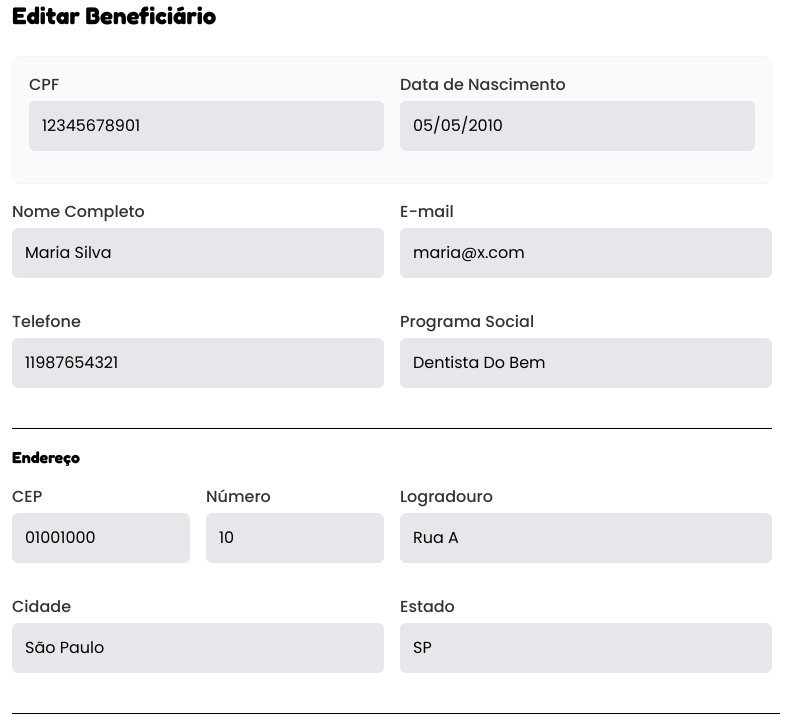
it: UpdateBeneficiario (editar beneficiário) › envia só e-mail, telefone (dígitos) e endereço (CEP em dígitos + número)
Step 1. Replace the text in the field labelled "E-mail" with "novo@x.com" → (586, 253), box [400,228,772,278]
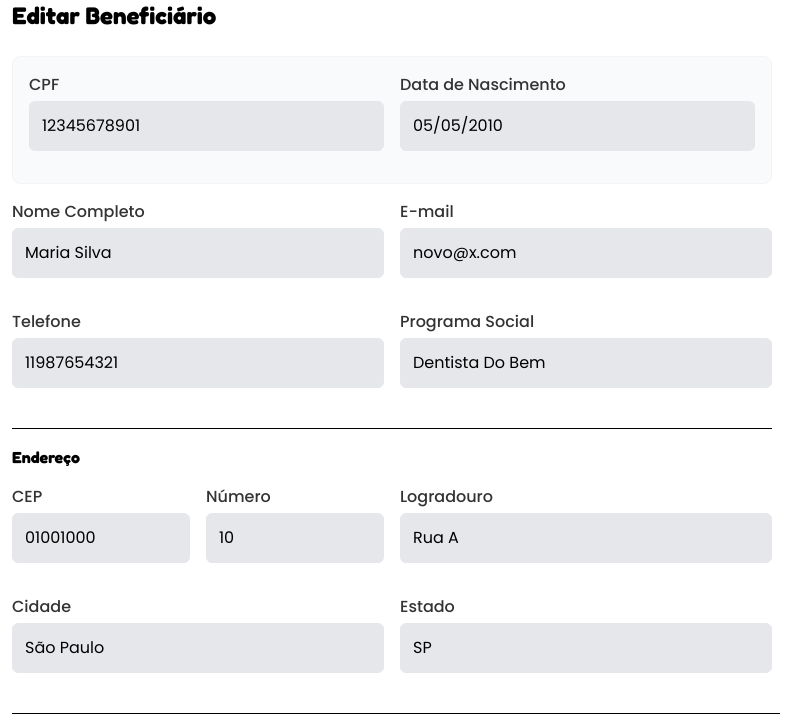
Step 2. Replace the text in the field labelled "Telefone" with "(11) 91111-2222" → (198, 363), box [12,338,384,388]
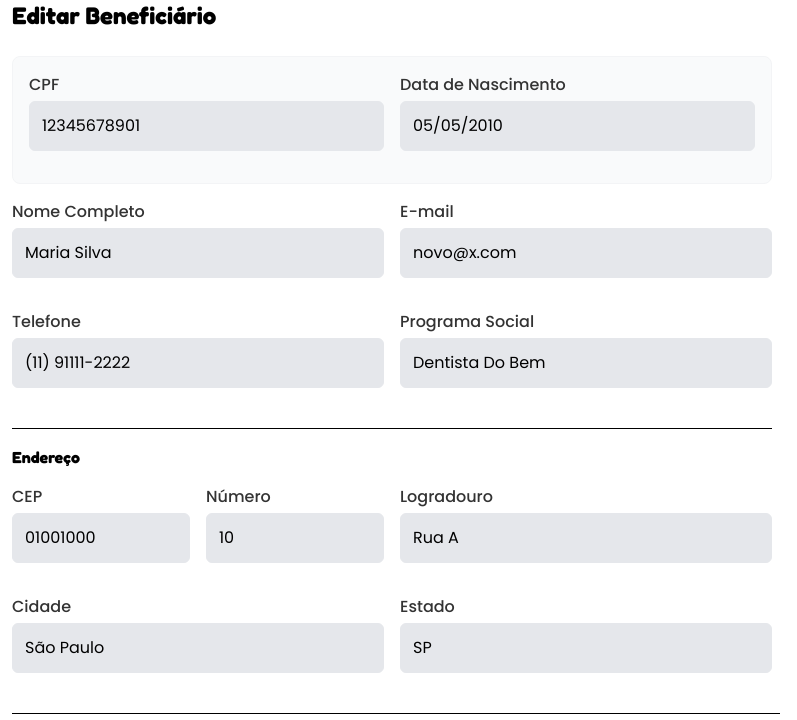
Step 3. Replace the text in the field labelled "Número" with "99" → (295, 538), box [206,513,384,563]
(page scrolled)
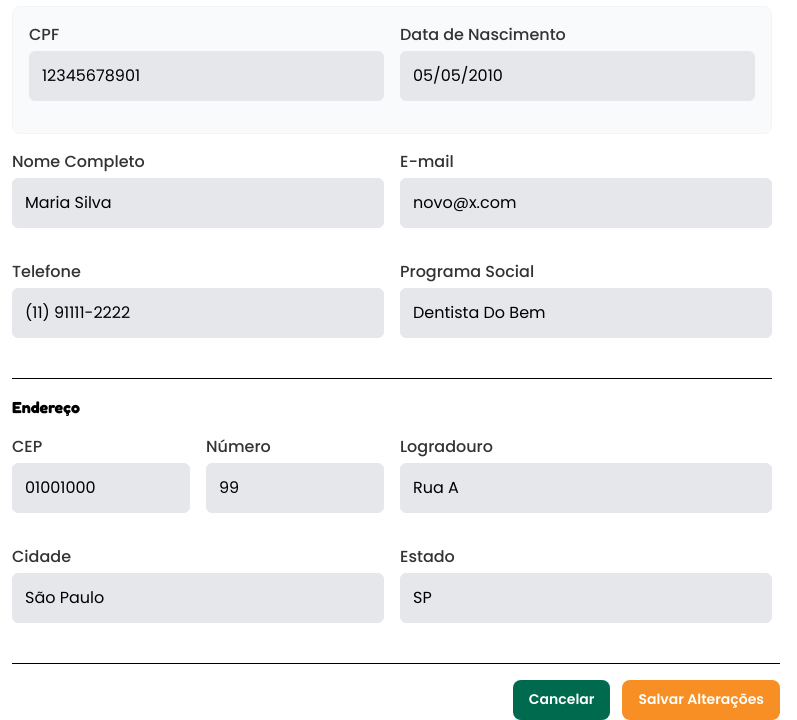
Step 4. Click the button "Salvar Alterações" → (701, 700), box [622,680,780,719]
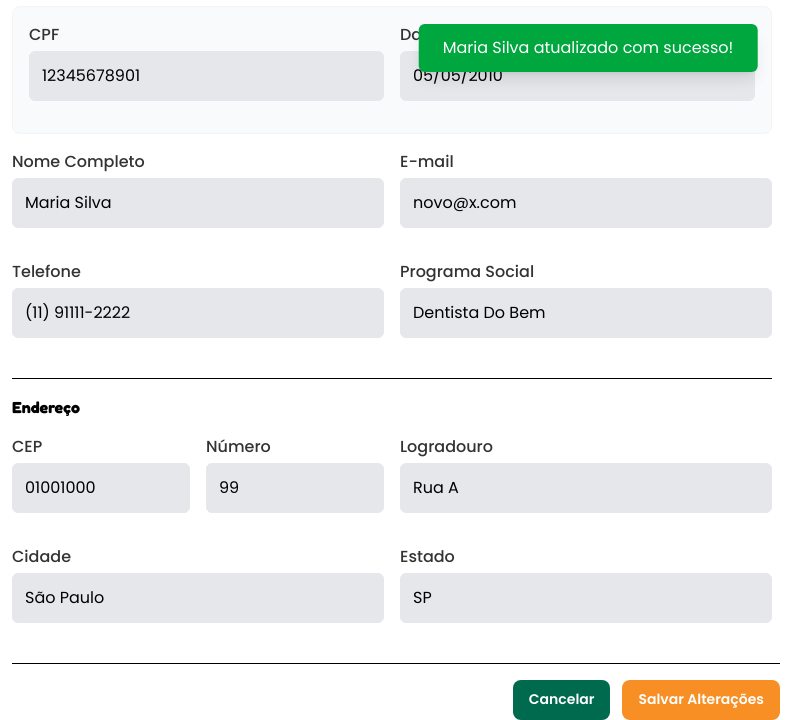
Expected: the text "Maria Silva atualizado com sucesso!" is shown, [419,24,757,72]
